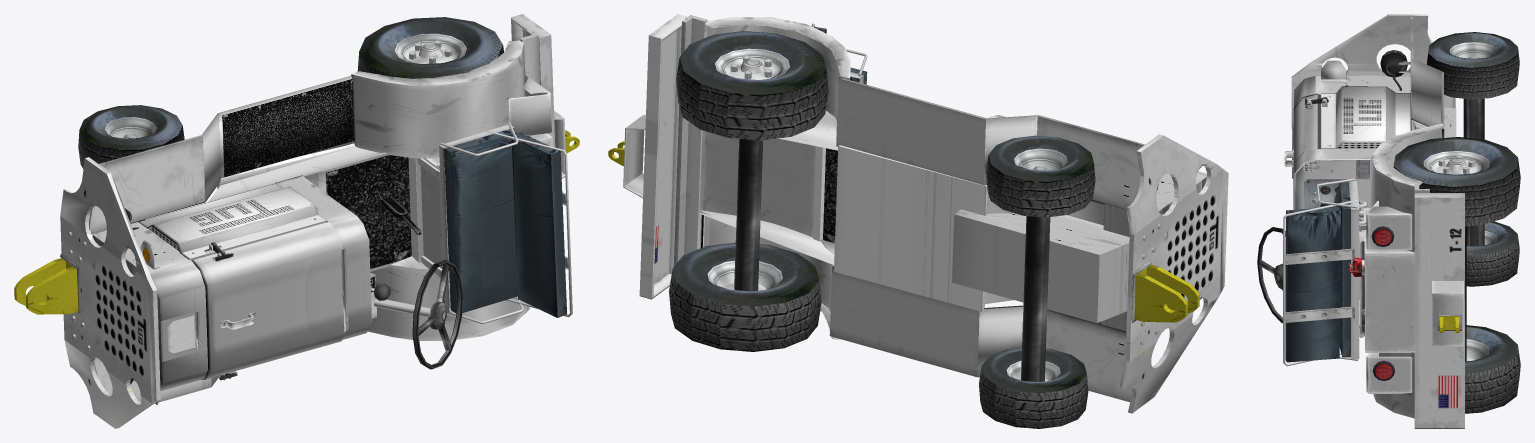
File: tug_uncovered.obj
The picture shows the model from 3 angles, left to right: view 1: azimuth 30°, elevation 25°; view 2: azimuth 150°, elevation 25°; view 3: azimuth 270°, elevation 25°; orthographic projection. The views are drawn at different scales.
Visible parts, largest first — view 1: Regroup13, Regroup01; view 2: Regroup13, Regroup01; view 3: Regroup01, Regroup13.
Part boxes in pixels (left/top/right/bottom): Regroup13: left=14, top=29, right=579, bottom=428; Regroup01: left=78, top=14, right=568, bottom=384; Regroup13: left=608, top=15, right=1228, bottom=413; Regroup01: left=623, top=14, right=1158, bottom=428; Regroup01: left=1285, top=32, right=1520, bottom=428; Regroup13: left=1257, top=14, right=1484, bottom=366.
Size of the model in its own units: 3.26 by 1.54 by 1.5.
Materials: 2 (2 with a texture image).
